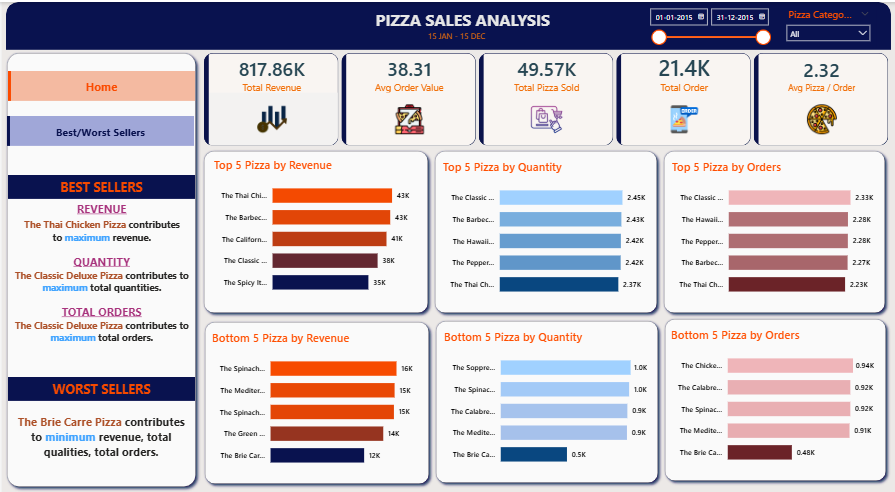

The page's visual inventory and layout, read from the dashboard file:
{"tool":"powerbi","page":{"name":"Best/Worst Sellers","canvas":[1500,820],"ordinal":1},"visuals":[{"type":"shape","box":[0,77,333,743],"z":0},{"type":"cardVisual","fields":{"Data":["pizzadb pizza_sales.Total_revenue","pizzadb pizza_sales.Avg_order_value","pizzadb pizza_sales.Total_pizza_sold","pizzadb pizza_sales.Total_order","pizzadb pizza_sales.Avg_pizza_per_order"]},"box":[333.1,79.6,1156.4,165.5],"z":1000},{"type":"shape","box":[6.7,0,1481,80.3],"z":2000},{"type":"textbox","box":[603.4,6.8,333.9,49.2],"z":3000},{"type":"textbox","box":[708.5,44.1,178,28.8],"z":4000},{"type":"shape","box":[331.3,527.1,391.6,287.8],"z":5000},{"type":"shape","box":[717.9,525.5,388.2,287.8],"z":6000},{"type":"shape","box":[1101.1,522.1,386.6,287.8],"z":7000},{"type":"textbox","box":[10.5,290.2,312.9,40.2],"z":8000},{"type":"textbox","box":[12.1,327.6,310.3,265.5],"z":9000},{"type":"textbox","box":[10,627.6,312.9,40.2],"z":10000},{"type":"textbox","box":[12.1,667.2,308.6,124.1],"z":11000},{"type":"slicer","fields":{"Values":["pizzadb pizza_sales.pizza_category"]},"box":[1302,3.3,162.3,73.6],"z":12000},{"type":"slicer","fields":{"Values":["pizzadb pizza_sales.order_date"]},"box":[1071,0,225.9,77],"z":13000},{"type":"shape","box":[329.6,241,391.6,287.8],"z":14000},{"type":"shape","box":[716.2,241,388.2,287.8],"z":15000},{"type":"shape","box":[1099.4,241,386.6,287.8],"z":16000},{"type":"barChart","title":"Top 5 Pizza by Revenue","fields":{"Category":["pizzadb pizza_sales.pizza_name"],"Y":["pizzadb pizza_sales.Total Revenue"]},"box":[349.8,259.4,358.1,242.7],"z":17000},{"type":"barChart","title":"Bottom 5 Pizza by Revenue","fields":{"Category":["pizzadb pizza_sales.pizza_name"],"Y":["pizzadb pizza_sales.Total Revenue"]},"box":[346.4,548.9,358.1,242.7],"z":18000},{"type":"barChart","title":"Top 5 Pizza by Quantity","fields":{"Category":["pizzadb pizza_sales.pizza_name"],"Y":["Sum(pizzadb pizza_sales.quantity)"]},"box":[733,262.7,349.8,242.7],"z":19000},{"type":"barChart","title":"Bottom 5 Pizza by Quantity","fields":{"Category":["pizzadb pizza_sales.pizza_name"],"Y":["Sum(pizzadb pizza_sales.quantity)"]},"box":[734.7,547.2,349.8,242.7],"z":20000},{"type":"barChart","title":"Top 5 Pizza by Orders","fields":{"Category":["pizzadb pizza_sales.pizza_name"],"Y":["pizzadb pizza_sales.Total Order"]},"box":[1116.2,262.7,349.8,242.7],"z":21000},{"type":"barChart","title":"Bottom 5 Pizza by Orders","fields":{"Category":["pizzadb pizza_sales.pizza_name"],"Y":["pizzadb pizza_sales.Total Order"]},"box":[1114.5,543.9,349.8,242.7],"z":22000},{"type":"pageNavigator","box":[9.5,114.9,313.5,50],"z":23001},{"type":"pageNavigator","box":[8.6,191.4,313.8,50],"z":23002}]}

Visuals, with their boxes in screenshot pixels (x1, y1, x2, y2), scaled from the page's 1500x820 canvas onto the 895x492 screenshot:
shape: 0 46 199 491
cardVisual - pizzadb pizza_sales.Total_revenue x pizzadb pizza_sales.Avg_order_value: 199 48 889 147
shape: 4 0 888 48
textbox: 360 4 559 34
textbox: 423 26 529 44
shape: 198 316 431 489
shape: 428 315 660 488
shape: 657 313 888 486
textbox: 6 174 193 198
textbox: 7 197 192 356
textbox: 6 377 193 401
textbox: 7 400 191 475
slicer - pizzadb pizza_sales.pizza_category: 777 2 874 46
slicer - pizzadb pizza_sales.order_date: 639 0 774 46
shape: 197 145 430 317
shape: 427 145 659 317
shape: 656 145 887 317
"Top 5 Pizza by Revenue" barChart: 209 156 422 301
"Bottom 5 Pizza by Revenue" barChart: 207 329 420 475
"Top 5 Pizza by Quantity" barChart: 437 158 646 303
"Bottom 5 Pizza by Quantity" barChart: 438 328 647 474
"Top 5 Pizza by Orders" barChart: 666 158 875 303
"Bottom 5 Pizza by Orders" barChart: 665 326 874 472
pageNavigator: 6 69 193 99
pageNavigator: 5 115 192 145
